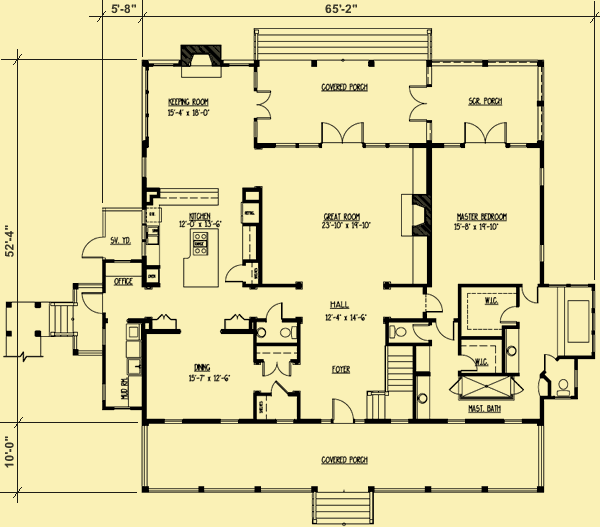door: (317, 118, 367, 148), (460, 119, 510, 147), (406, 83, 432, 126), (249, 84, 274, 121), (329, 395, 356, 426), (80, 290, 108, 314), (258, 359, 293, 378), (434, 313, 458, 340), (78, 235, 106, 257), (221, 261, 245, 285), (456, 349, 482, 371), (498, 302, 521, 325), (423, 290, 444, 315), (517, 282, 539, 305), (268, 376, 293, 396), (540, 347, 558, 372), (265, 299, 282, 325), (410, 322, 430, 342)
kitchen bar: (179, 223, 223, 292)
large sink: (549, 376, 577, 396), (385, 318, 410, 340), (276, 324, 300, 340)
small sink: (504, 327, 521, 373), (416, 373, 432, 418), (255, 323, 267, 339)
stairs: (251, 25, 440, 68), (360, 340, 418, 420), (309, 483, 378, 527), (41, 299, 78, 340)
windows: (156, 414, 187, 428), (442, 413, 468, 429), (501, 417, 526, 433), (269, 417, 297, 429), (213, 415, 240, 427), (535, 238, 547, 264), (536, 164, 548, 187), (98, 381, 109, 403)
